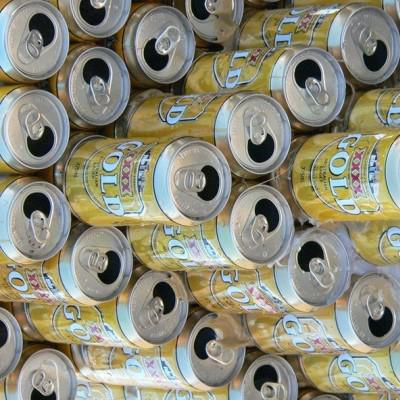beer: (1, 2, 400, 397)
